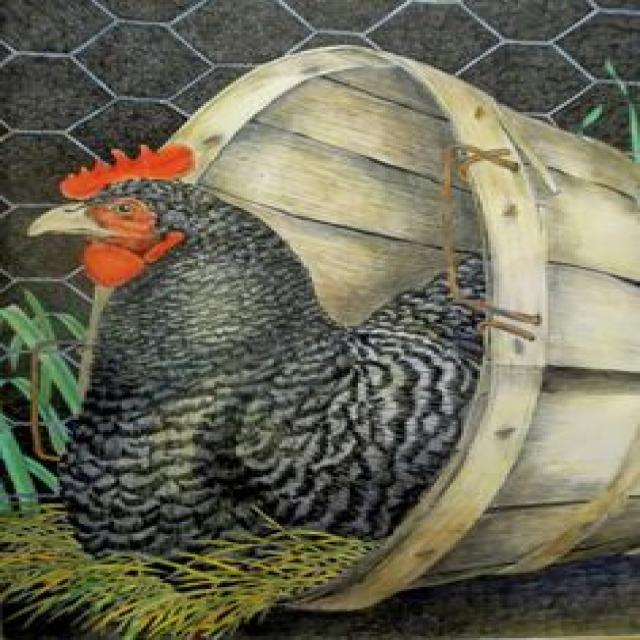Herbivorous: (27, 145, 483, 561)
